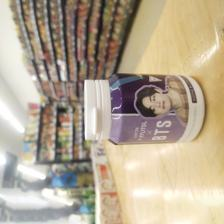Xylitol_BTS: (82, 71, 205, 145)
